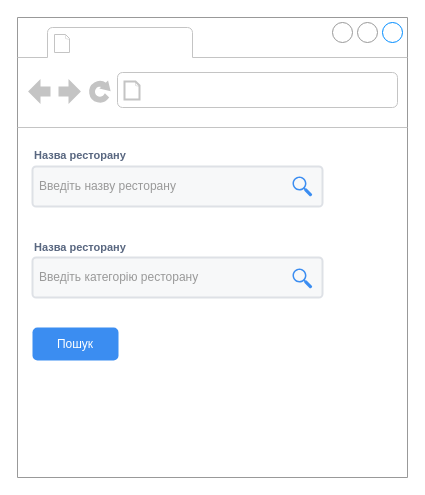
The diagram is 425 pixels wide and 495 high, and some of its shapes have lost their labels. Here are the shapes that lost their labels. From the top down, the box of each, then its label:
(76, 28, 188, 56): Пошук ресторану
(146, 76, 398, 104): https://www.music-meals-companion.com/search
